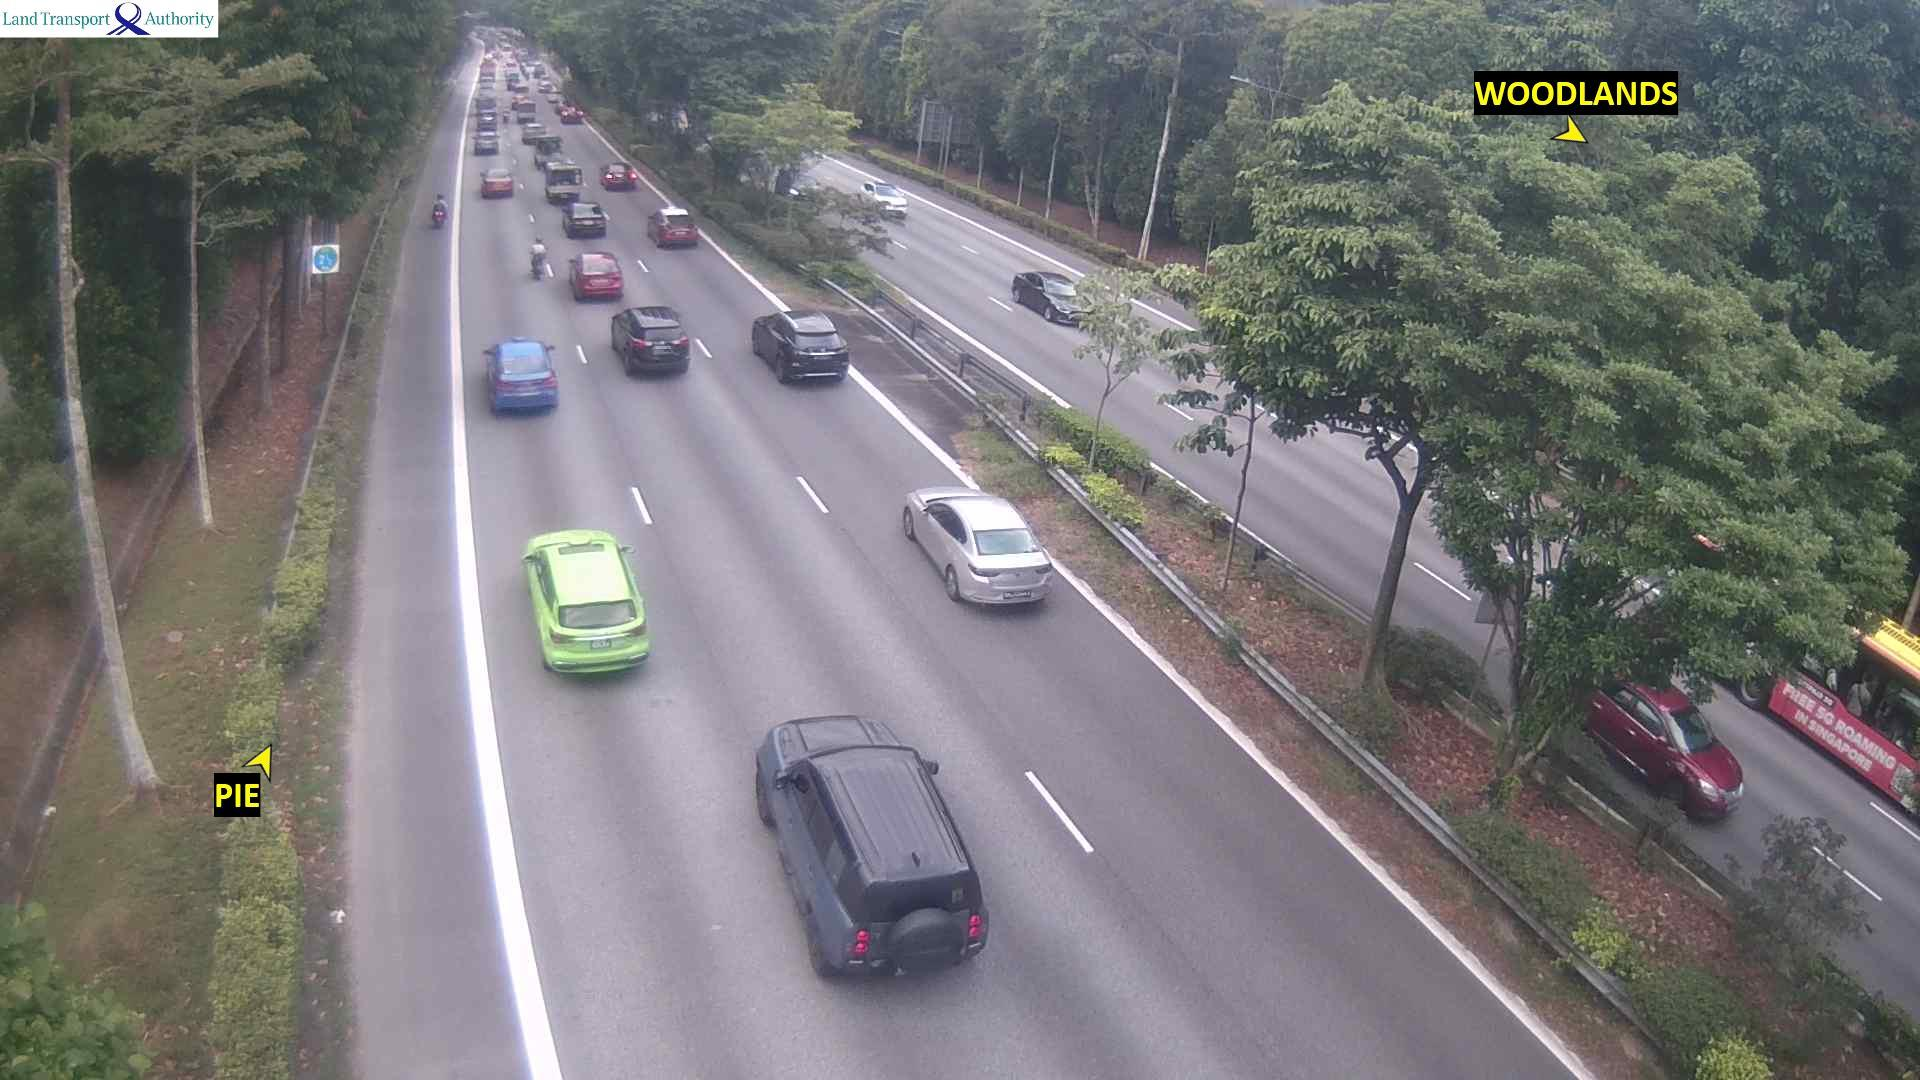incoming: (1652, 708, 1750, 823)
